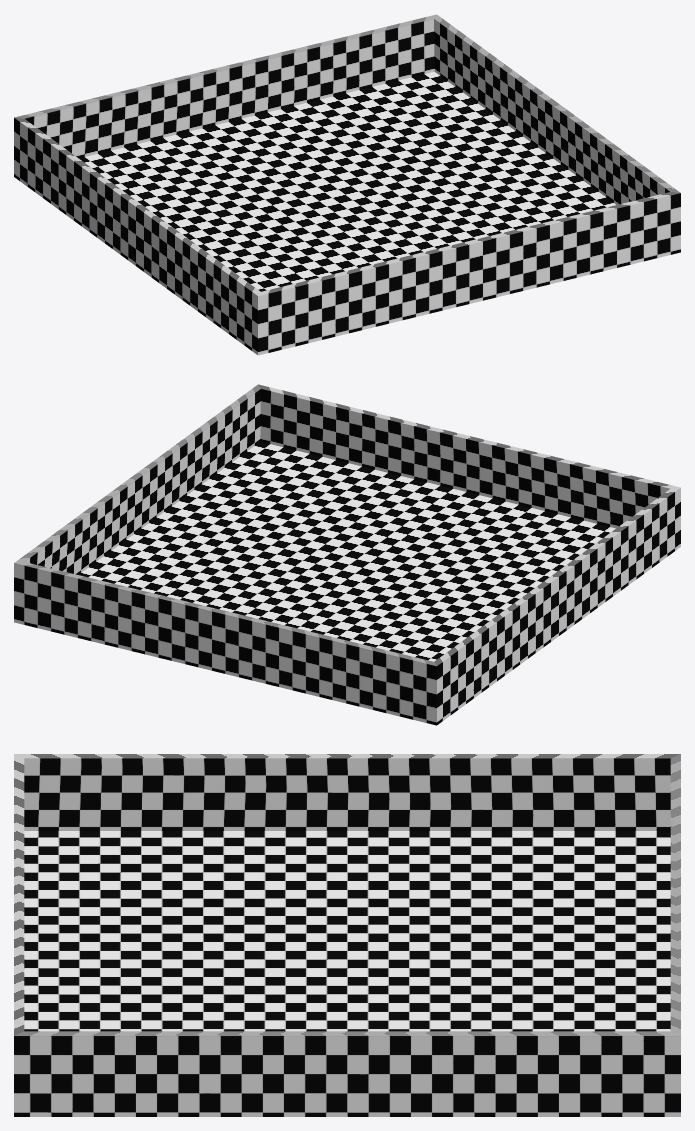
Rendered from environment.gltf.
The picture shows the model from 3 angles, top to bottom: view 1: azimuth 30°, elevation 25°; view 2: azimuth 150°, elevation 25°; view 3: azimuth 270°, elevation 25°; orthographic projection. The views are drawn at different scales.
Visible parts, largest first — view 1: Plane; view 2: Plane; view 3: Plane.
Part boxes in pixels (left/top/right/bottom): Plane: left=14, top=14, right=680, bottom=355; Plane: left=14, top=384, right=680, bottom=725; Plane: left=14, top=754, right=680, bottom=1116.
Bounding box in the file's own units: 38.69 × 5.19 × 38.69.
1 material, 1 textured.
